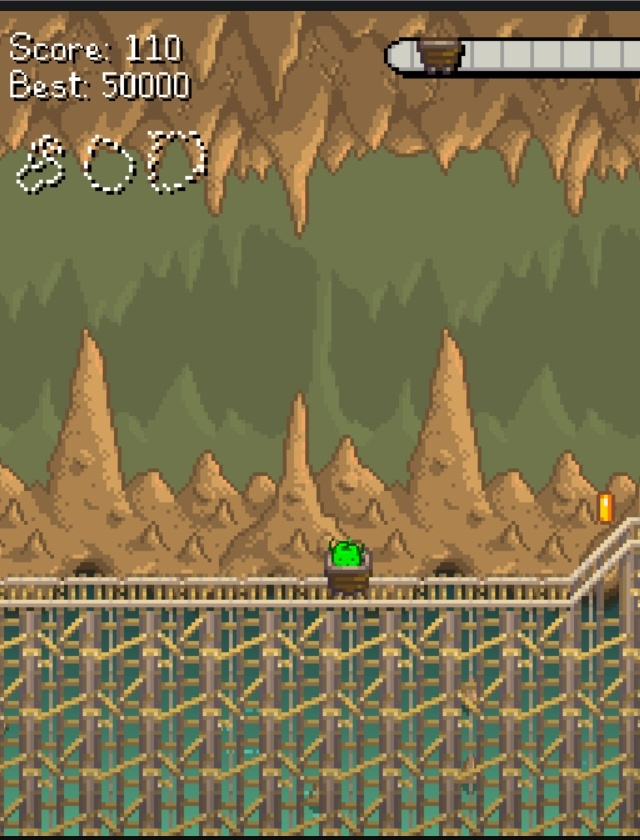coins: (598, 493, 612, 523)
minecart: (324, 540, 370, 595)
tracks: (0, 512, 639, 613)
